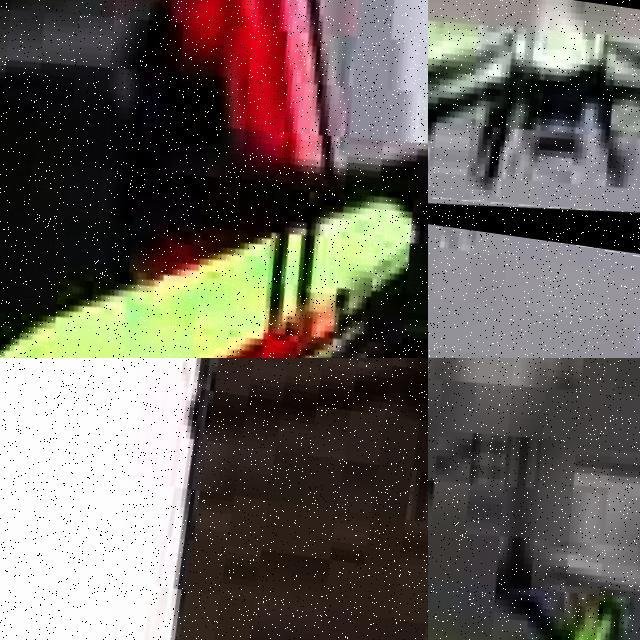drone: (0, 0, 428, 358), (428, 358, 640, 640), (428, 0, 640, 271)
